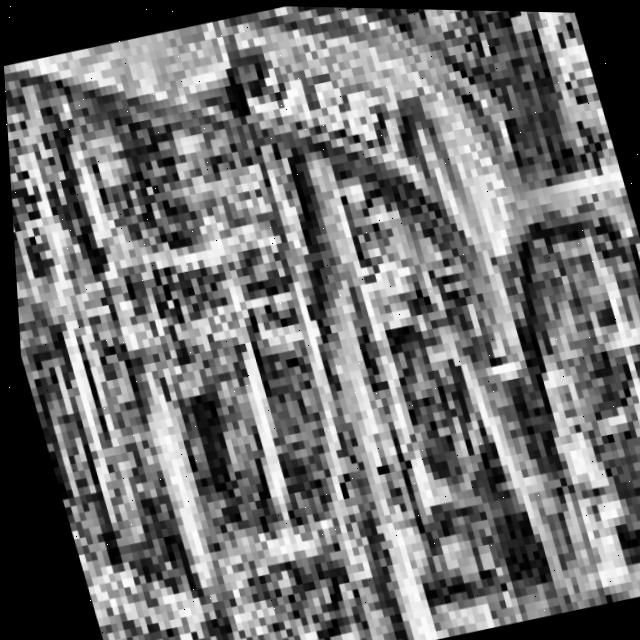excavator: (221, 113, 640, 640)
